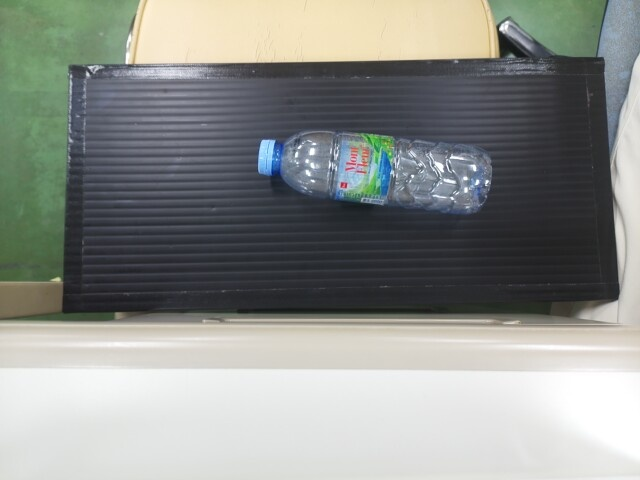plastic_bottle: (255, 130, 491, 214)
